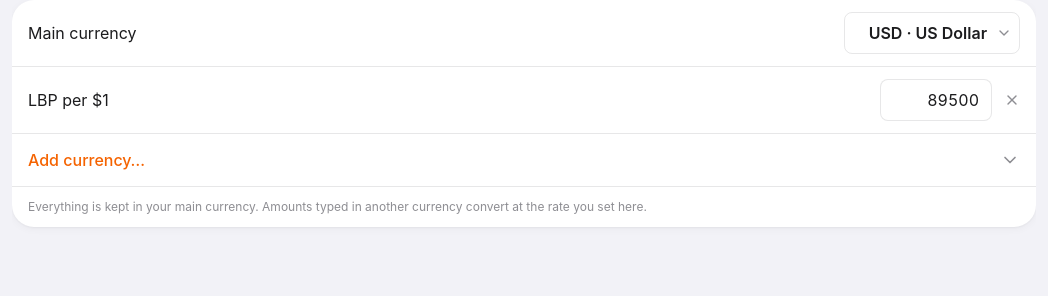
Test: CurrencySettings › keeps the picked row when saving its rate fails
Select "EUR · Euro" in the dropdown named "Add currency" at point(524, 160), box [12,134,1036,186]
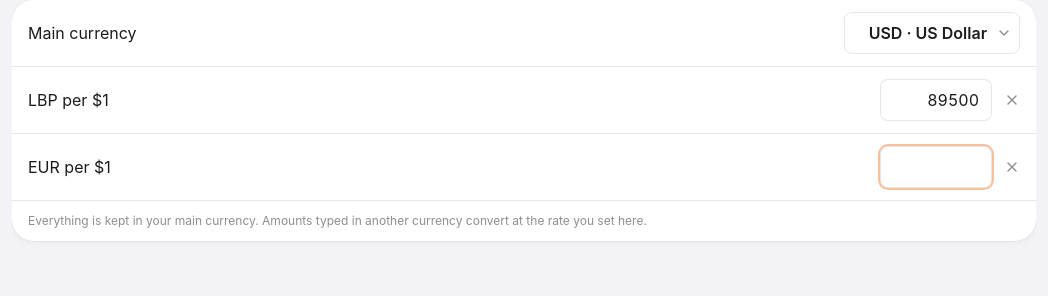
Type "0.92" into the field labelled "EUR per $1" at point(936, 167), box [880,146,992,188]
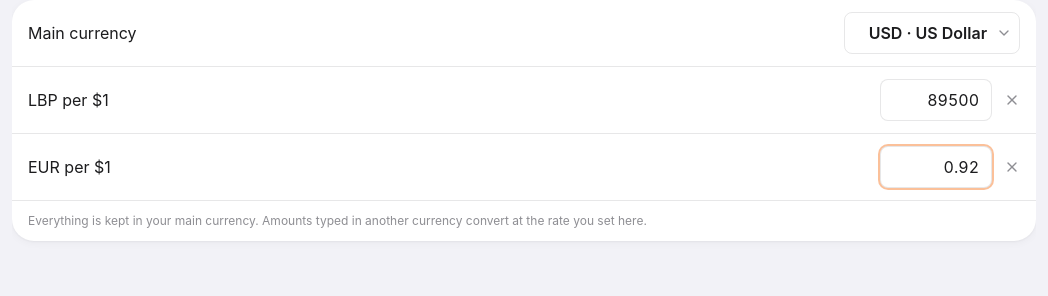
Leave the field labelled "EUR per $1", box [880,146,992,188]
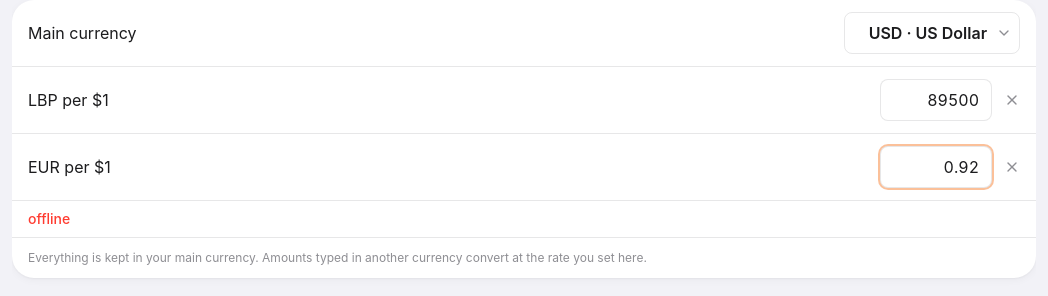
Result: the text "offline" is shown at [12,200,1036,237]
